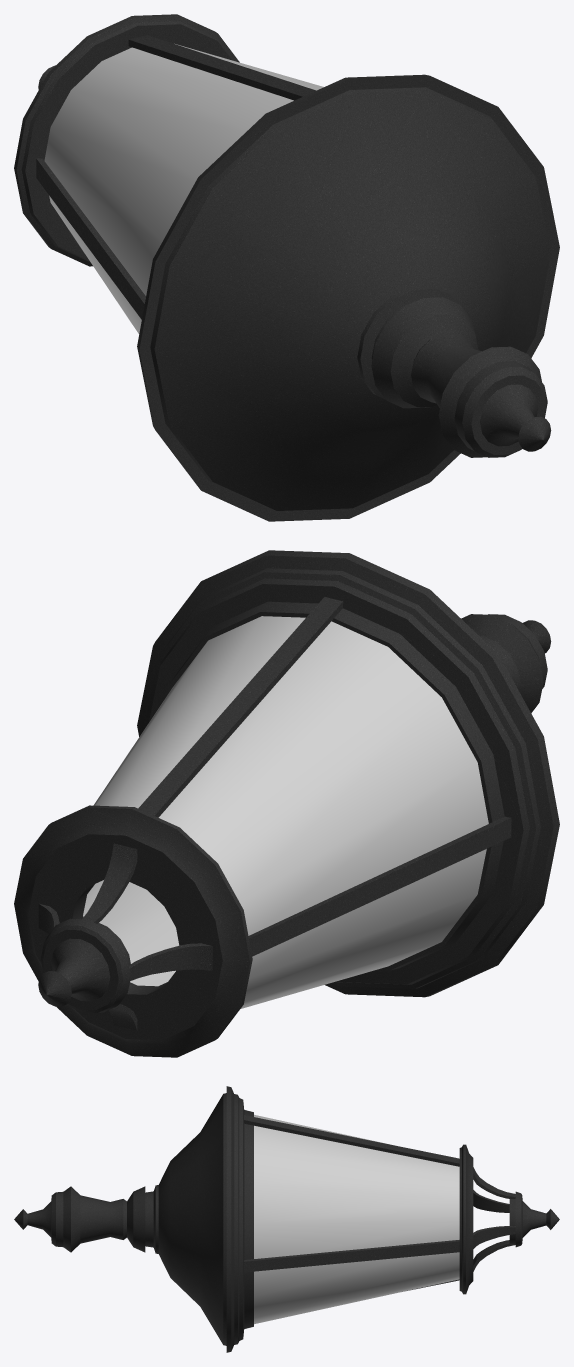
Rendered from Park Crown.obj.
3 renders of one model, top to bottom at view 1: azimuth 30°, elevation 25°; view 2: azimuth 150°, elevation 25°; view 3: azimuth 270°, elevation 25°, orthographic. The views are drawn at different scales.
Parts seen in each view (by area): view 1: Schirm_und_Fuss_16_Segmente_BezierCurve.002, Glas_BezierCurve.009, Schirmstreben_Cube.002; view 2: Schirm_und_Fuss_16_Segmente_BezierCurve.002, Glas_BezierCurve.009, Schirmstreben_Cube.002, Fussstreben_Mesh; view 3: Glas_BezierCurve.009, Schirm_und_Fuss_16_Segmente_BezierCurve.002, Schirmstreben_Cube.002, Fussstreben_Mesh.
Boxes of the visible parts, bbox=[...] form: Schirm_und_Fuss_16_Segmente_BezierCurve.002: bbox=[14, 14, 559, 521]; Glas_BezierCurve.009: bbox=[44, 43, 323, 334]; Schirmstreben_Cube.002: bbox=[36, 35, 315, 319]; Schirm_und_Fuss_16_Segmente_BezierCurve.002: bbox=[14, 550, 559, 1057]; Glas_BezierCurve.009: bbox=[83, 616, 488, 1008]; Schirmstreben_Cube.002: bbox=[138, 597, 511, 956]; Fussstreben_Mesh: bbox=[38, 843, 212, 1030]; Glas_BezierCurve.009: bbox=[254, 1114, 459, 1324]; Schirm_und_Fuss_16_Segmente_BezierCurve.002: bbox=[14, 1086, 559, 1352]; Schirmstreben_Cube.002: bbox=[244, 1115, 459, 1290]; Fussstreben_Mesh: bbox=[473, 1167, 515, 1271].
Size of the model in its own units: 0.4517 by 0.4517 by 0.9234.
2 materials, 1 textured.
